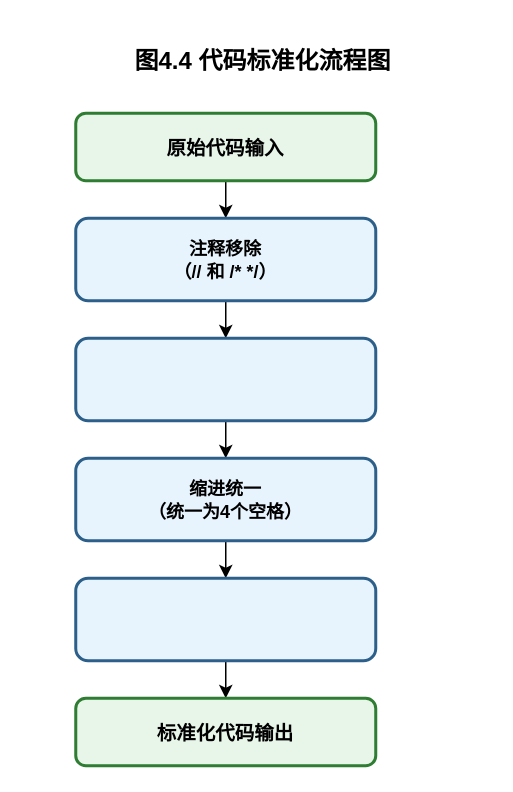
Some shapes in this 513 by 792 pixel diagram are drawn without their labels. Here are the shapes that lost their labels. From the top down, the centre of each, then its label:
At [225,379]: "标识符归一化 （变量名→var_i, 函数名→func_i）".
At [225,619]: "空白字符清理 （删除空行和多余空格）".
